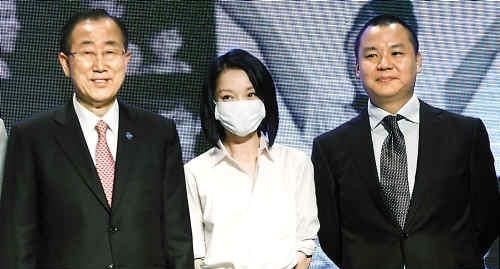face: (71, 21, 122, 101), (359, 26, 414, 95)
face_mask: (216, 71, 265, 136)
